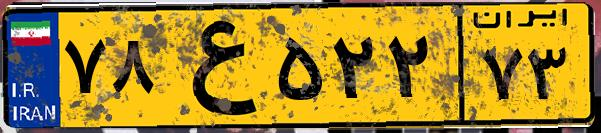2: (385, 28, 445, 110), (330, 28, 385, 110)
3: (525, 38, 570, 115)
5: (270, 28, 330, 110)
7: (57, 26, 110, 100), (475, 38, 525, 113)
8: (110, 28, 158, 98)
ع: (158, 12, 270, 120)
